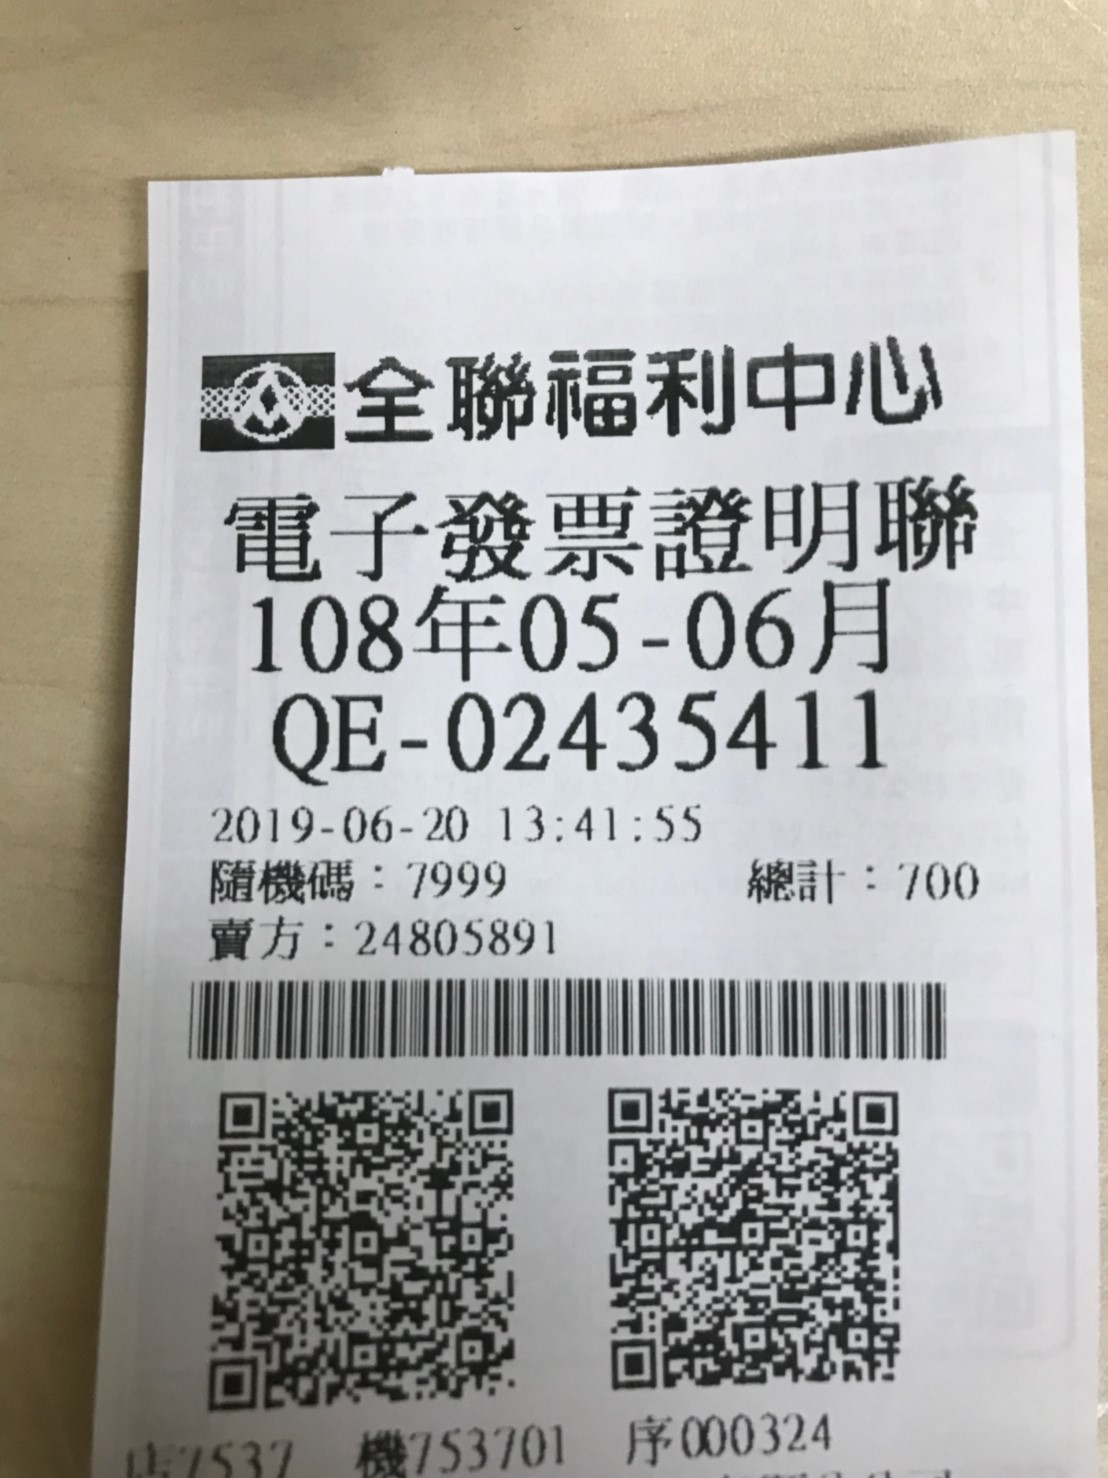Date_New: (242, 574, 905, 678)
Number_New: (446, 684, 893, 783)
